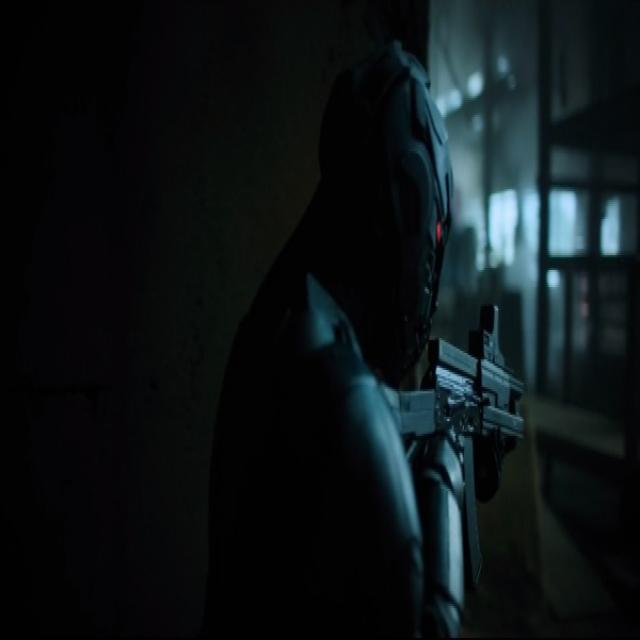rifle: (390, 279, 531, 585)
